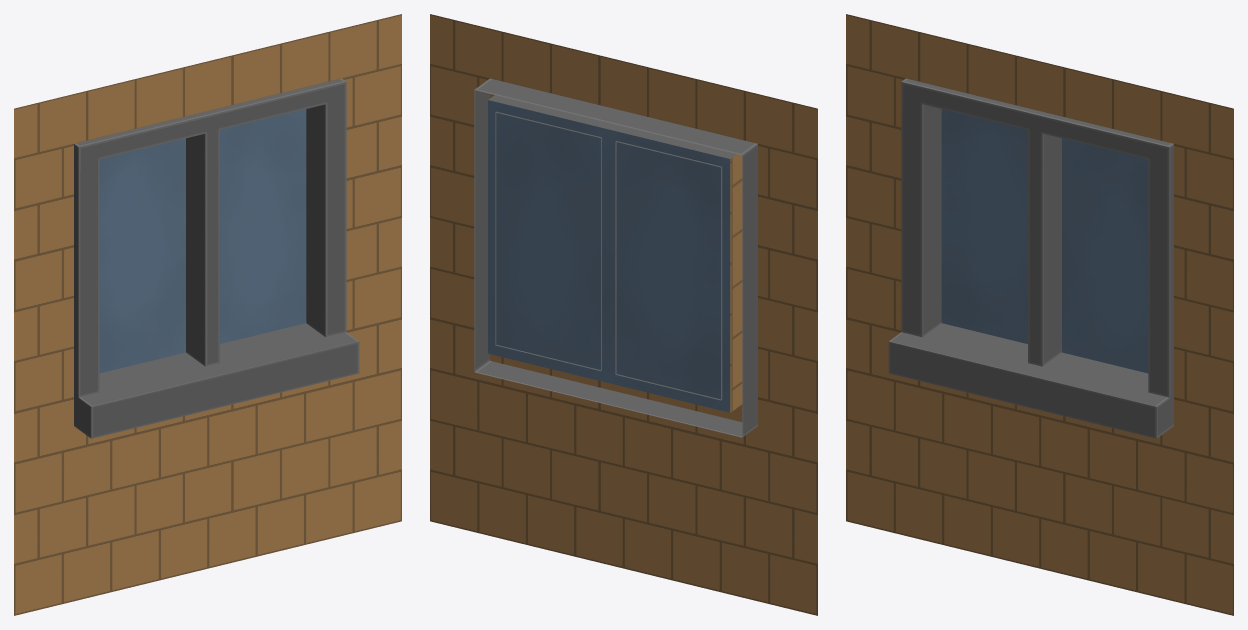
File: Wall_1.fbx
The picture shows the model from 3 angles, left to right: view 1: azimuth 30°, elevation 25°; view 2: azimuth 150°, elevation 25°; view 3: azimuth 330°, elevation 25°; orthographic projection.
Visible parts, largest first — view 1: Wall_1; view 2: Wall_1; view 3: Wall_1.
Boxes of the visible parts, x1=… form: Wall_1: x1=14, y1=14, x2=401, y2=615; Wall_1: x1=430, y1=14, x2=817, y2=615; Wall_1: x1=846, y1=14, x2=1233, y2=615.
Size of the model in its own units: 2.8 by 3.5 by 0.4145.
